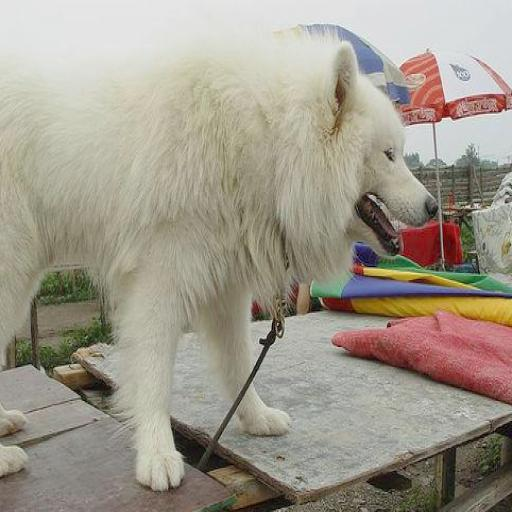dog_face: (315, 44, 439, 262)
